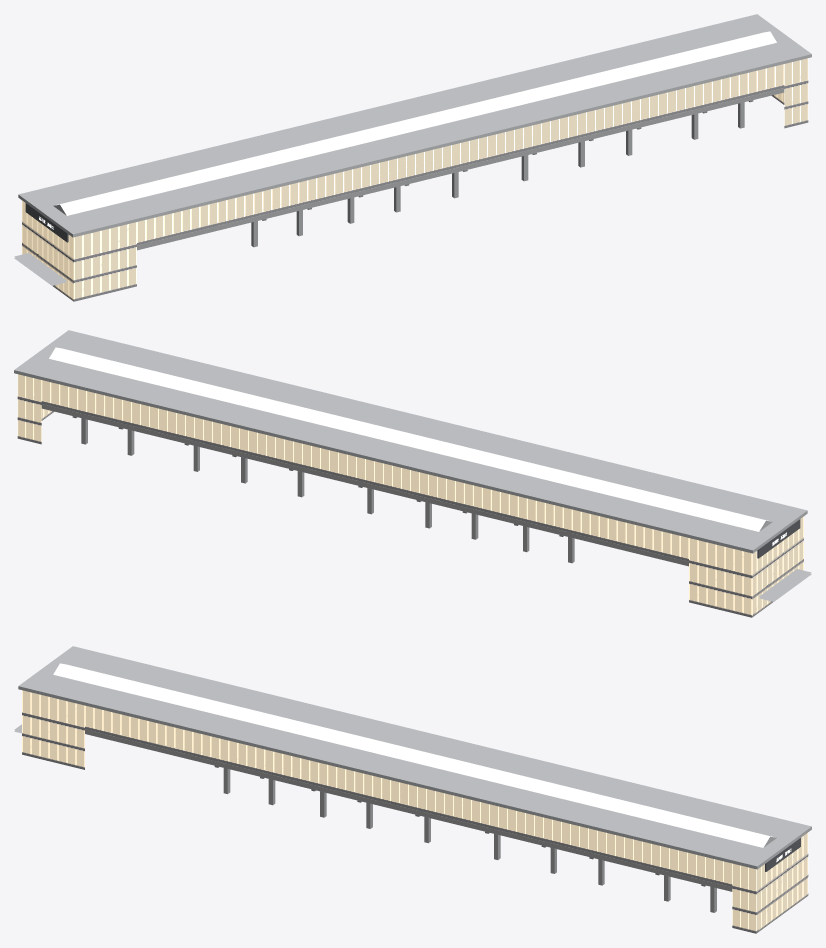
File: shinagawa_station.glb
3 views of the same model, one above another, from view 1: azimuth 30°, elevation 25°; view 2: azimuth 150°, elevation 25°; view 3: azimuth 330°, elevation 25° (orthographic).
Parts seen in each view (by area): view 1: SG_Station; view 2: SG_Station; view 3: SG_Station.
Part boxes in pixels (x1,y1,x2,y2): SG_Station: (14, 14, 811, 301); SG_Station: (14, 330, 811, 617); SG_Station: (14, 646, 811, 933).
Size of the model in its own units: 251 by 24 by 31.6.
Materials: 8 (2 with a texture image).
